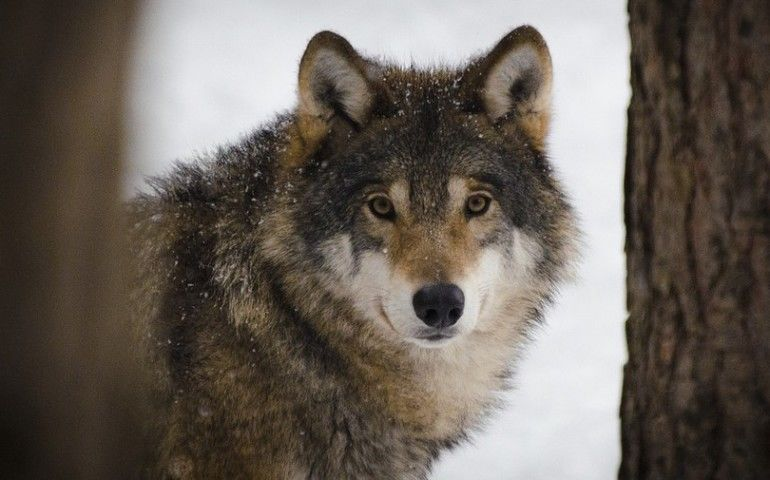wolf: (119, 53, 577, 480)
